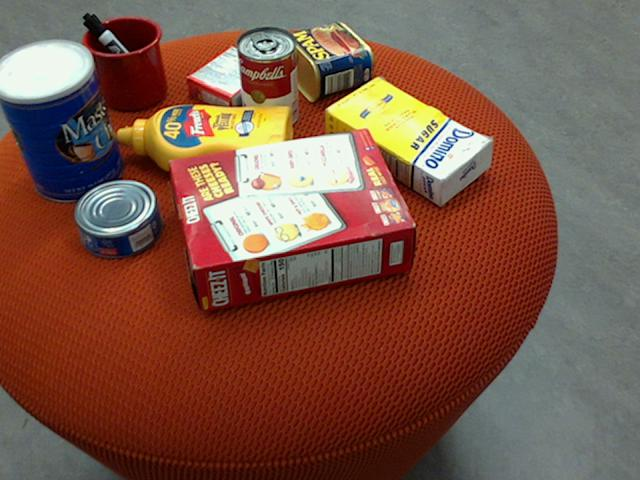cracker_box: (168, 127, 416, 310)
gelatin_box: (186, 44, 278, 113)
large_marker: (82, 12, 162, 96)
master_chef_can: (0, 38, 124, 202)
mug: (68, 16, 167, 110)
mustard_bottle: (117, 104, 293, 177)
potted_meat_can: (277, 22, 374, 102)
sugar_box: (324, 77, 494, 204)
tomato_soup_can: (236, 25, 298, 131)
tuna_fish_can: (74, 179, 162, 258)
